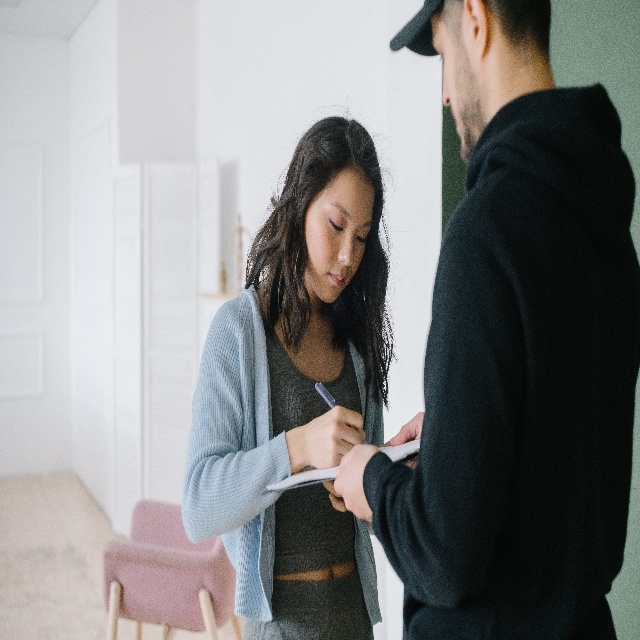Sin_guantes: (303, 404, 366, 469), (333, 443, 379, 522), (383, 410, 426, 447), (322, 479, 347, 513)
